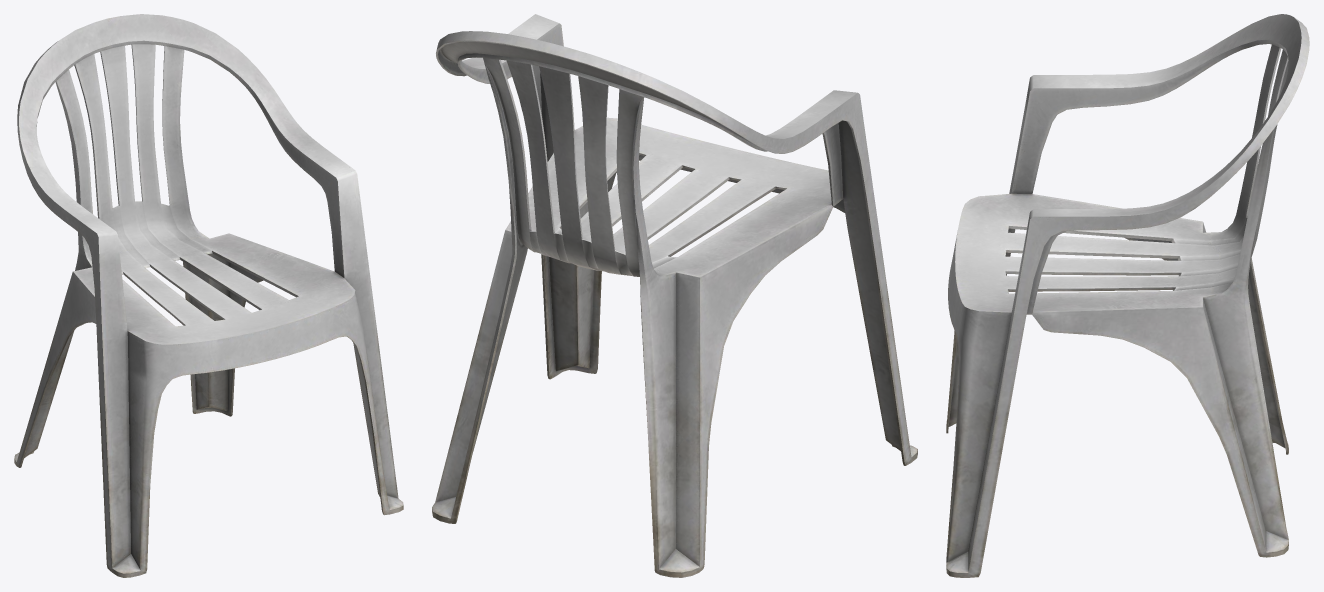
File: plastic-monobloc-chair-01.glb
3 renders of one model, left to right at view 1: azimuth 30°, elevation 25°; view 2: azimuth 150°, elevation 25°; view 3: azimuth 270°, elevation 25°, orthographic. The views are drawn at different scales.
Parts seen in each view (by area): view 1: plastic_monobloc_chair_01; view 2: plastic_monobloc_chair_01; view 3: plastic_monobloc_chair_01.
Part boxes in pixels (left/top/right/bottom): plastic_monobloc_chair_01: left=14, top=14, right=403, bottom=577; plastic_monobloc_chair_01: left=432, top=14, right=917, bottom=577; plastic_monobloc_chair_01: left=946, top=14, right=1309, bottom=577.
Bounding box in the file's own units: 0.6419 × 0.8798 × 0.6276.
1 material, 1 textured.
